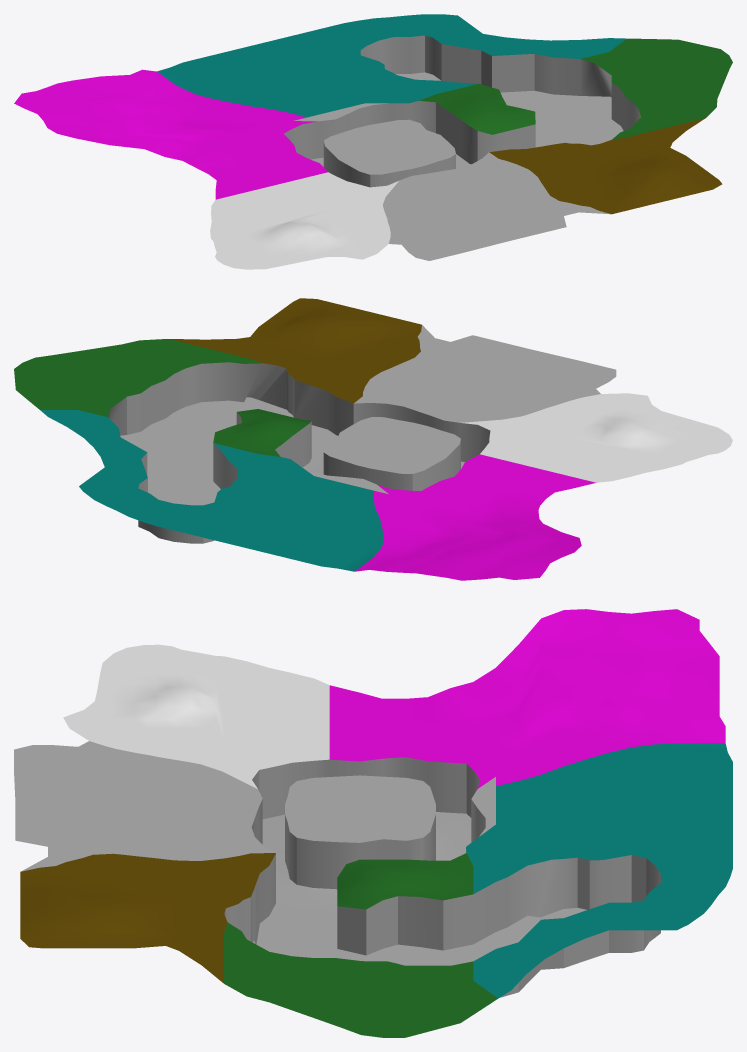
Rendered from grrr.fbx.
The picture shows the model from 3 angles, top to bottom: view 1: azimuth 30°, elevation 25°; view 2: azimuth 150°, elevation 25°; view 3: azimuth 270°, elevation 25°; orthographic projection. The views are drawn at different scales.
Visible parts, largest first — view 1: pPlane3; view 2: pPlane3; view 3: pPlane3.
Part boxes in pixels (x1=…): pPlane3: x1=14, y1=14, x2=732, y2=269; pPlane3: x1=14, y1=298, x2=732, y2=580; pPlane3: x1=14, y1=609, x2=732, y2=1037.
Bounding box in the file's own units: 65.83 × 5.93 × 49.84.
